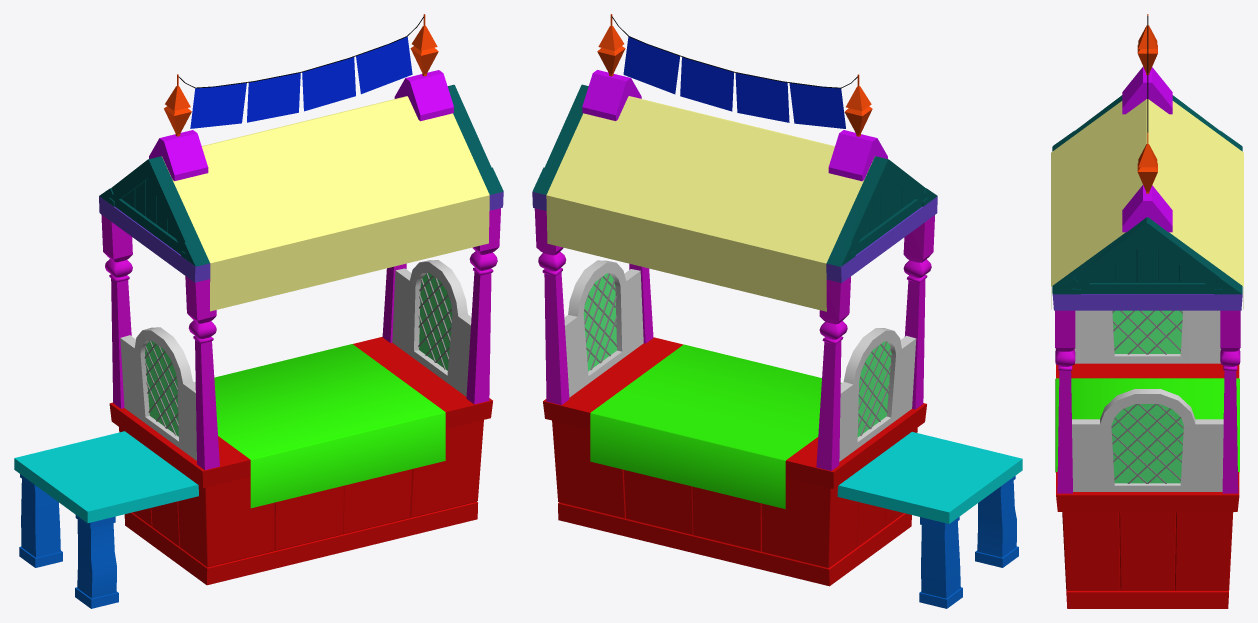
File: Stall_002.fbx
3 views of the same model, side by side, from view 1: azimuth 30°, elevation 25°; view 2: azimuth 150°, elevation 25°; view 3: azimuth 270°, elevation 25° (orthographic).
Visible parts, largest first — view 1: Object012; view 2: Object012; view 3: Object012.
Part boxes in pixels (x1,y1,x2,y2): Object012: (14, 14, 503, 608); Object012: (532, 14, 1022, 608); Object012: (1051, 14, 1243, 608).
Size of the model in its own units: 191 by 216 by 80.31.
